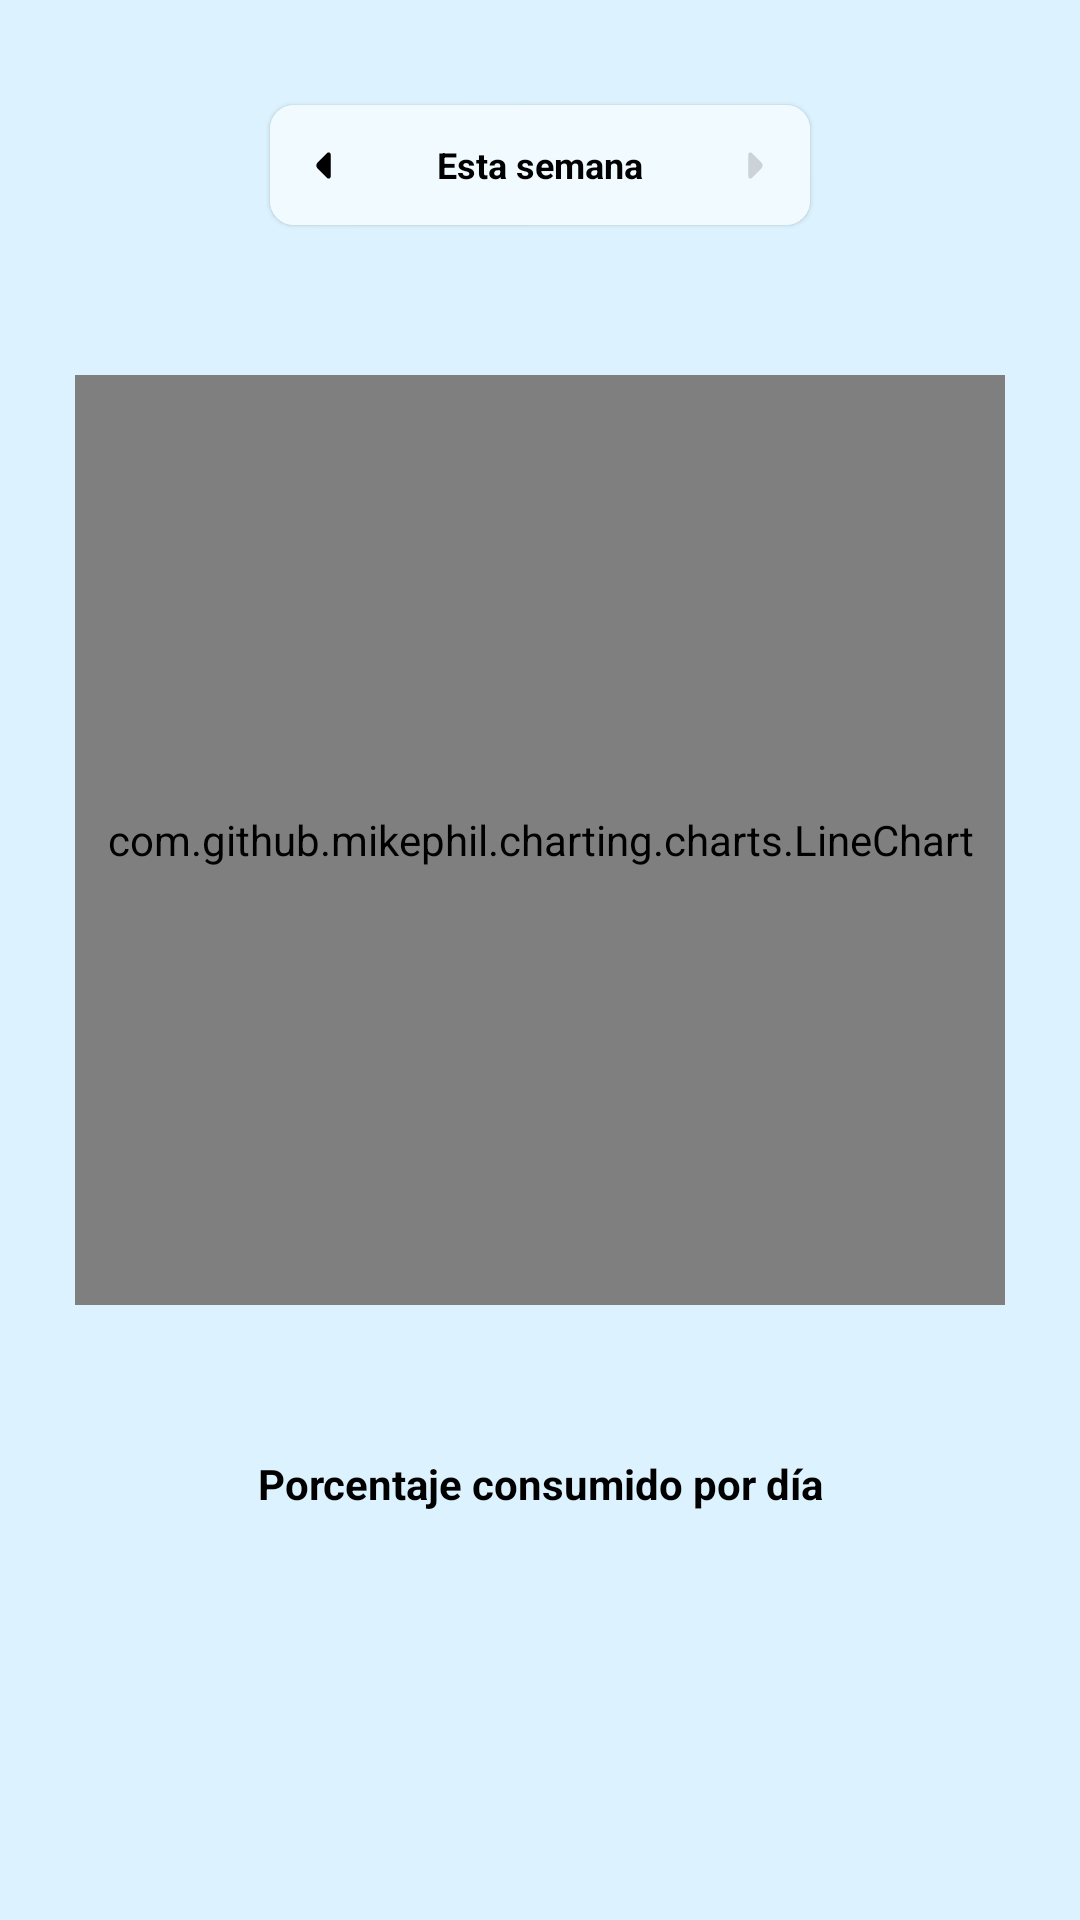

Icon bounding boxes for this 1080px x 1920px phone screenshot, format (x1, y1, x2, y2):
arrow left: (316, 152, 331, 179)
arrow right: (748, 153, 762, 178)
